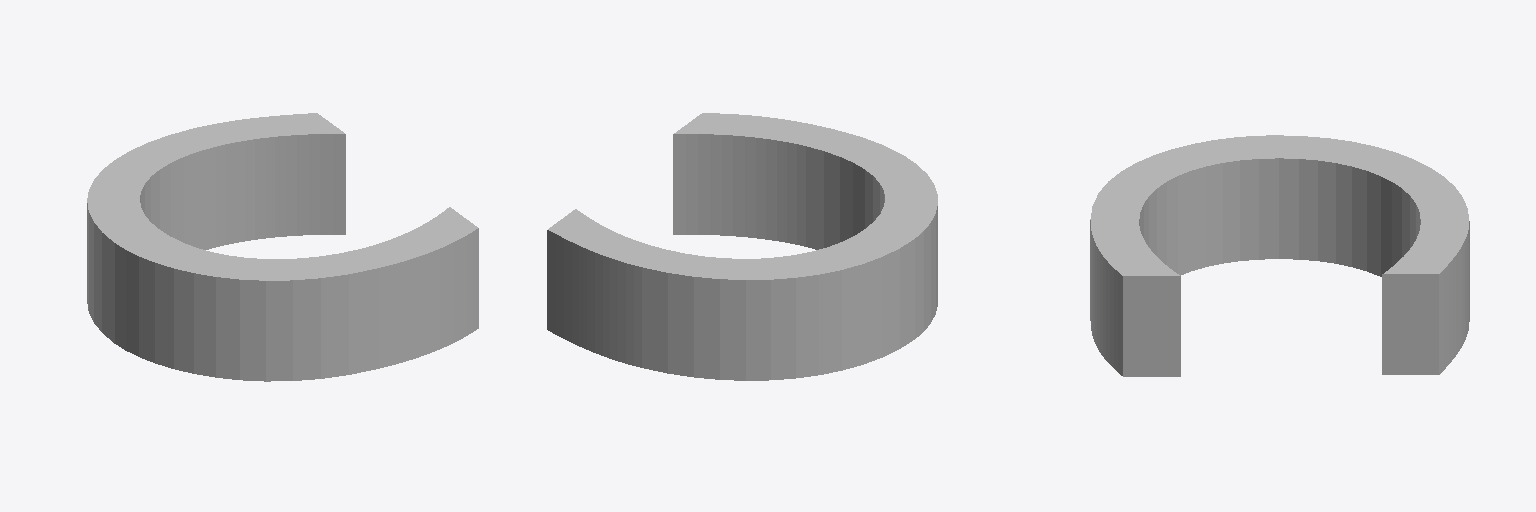
The picture shows the model from 3 angles: view 1: azimuth 30°, elevation 25°; view 2: azimuth 150°, elevation 25°; view 3: azimuth 270°, elevation 25°; orthographic projection.
Parts seen in each view (by area): view 1: テキスト.001; view 2: テキスト.001; view 3: テキスト.001.
Boxes of the visible parts, <box> form: テキスト.001: <box>87,113,478,381</box>; テキスト.001: <box>547,113,937,380</box>; テキスト.001: <box>1090,135,1469,376</box>.
Size of the model in its own units: 1.31 by 0.4358 by 1.49.